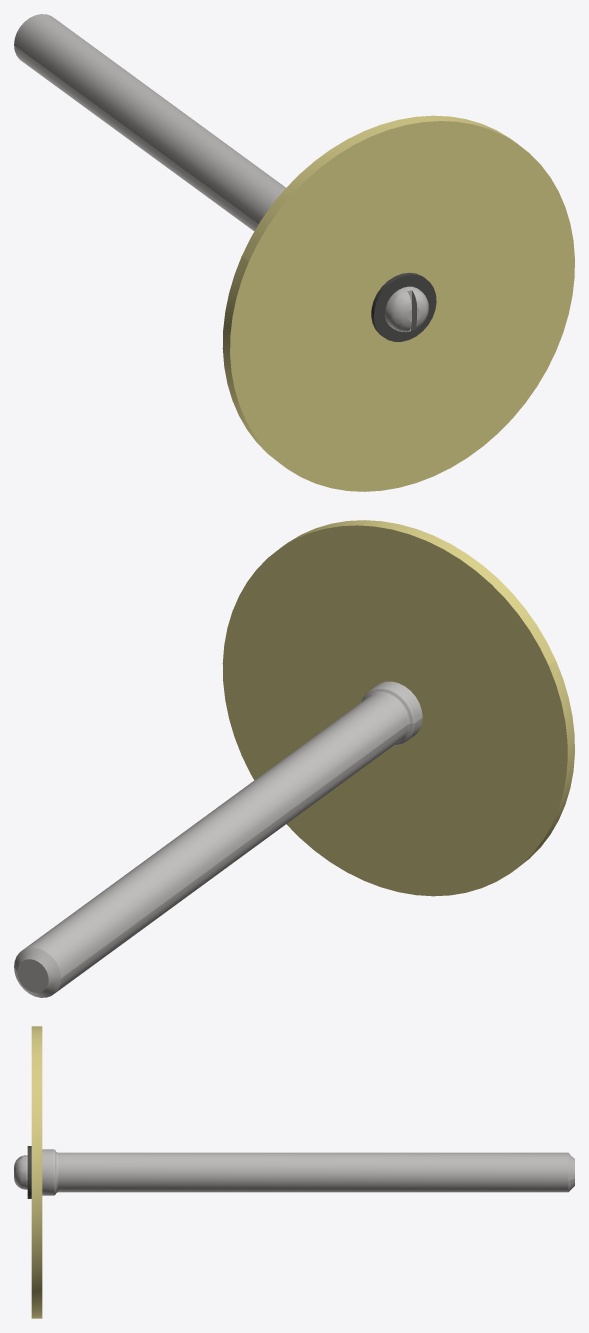
3 views of the same model, one above another, from view 1: azimuth 30°, elevation 25°; view 2: azimuth 150°, elevation 25°; view 3: azimuth 270°, elevation 25° (orthographic). The views are drawn at different scales.
Bounding box in the file's own units: 21.99 × 22 × 42.12.
